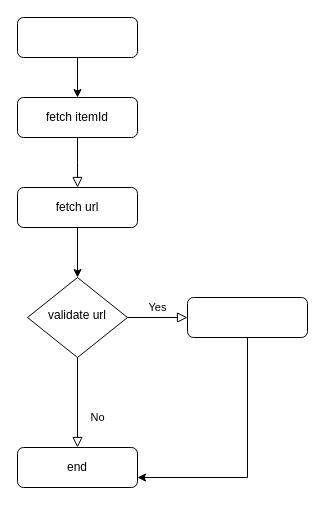
Image size: 325x505. Some labels were removed from this diagram. The shapes that lost their labels are listed below. From the top down, each one's centre as x and y in pixels, then its label:
(77,37): begin
(247,317): do mediaTailor
